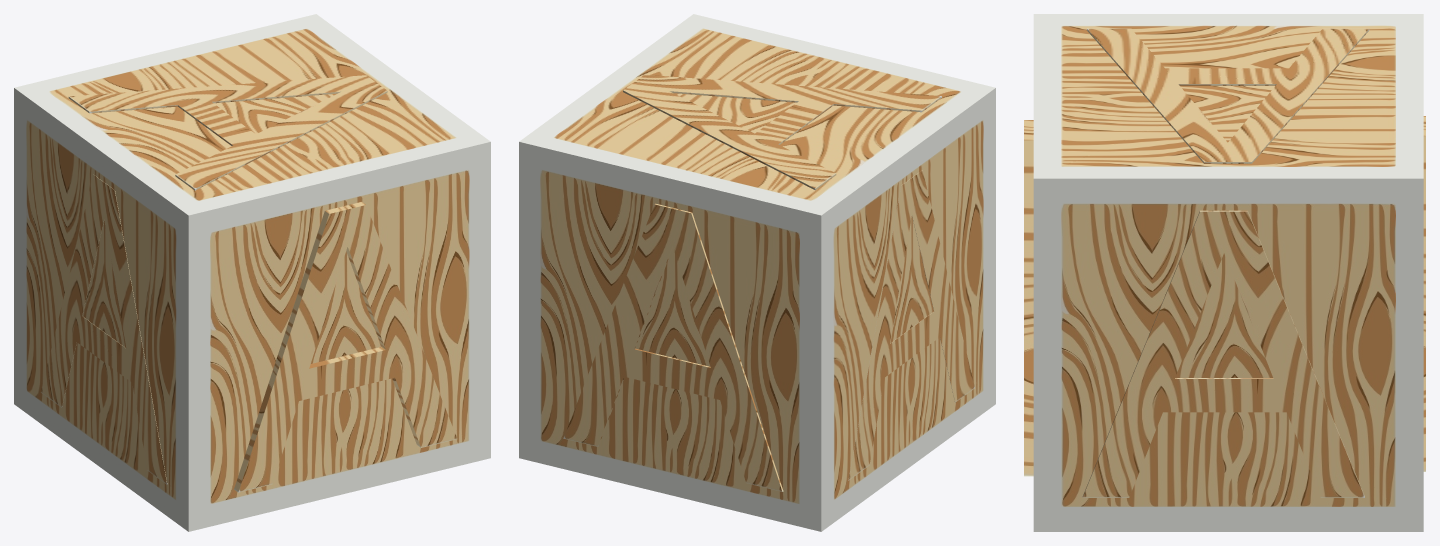
Rendered from Block A.fbx.
The picture shows the model from 3 angles, left to right: view 1: azimuth 30°, elevation 25°; view 2: azimuth 150°, elevation 25°; view 3: azimuth 270°, elevation 25°; orthographic projection. The views are drawn at different scales.
Visible parts, largest first — view 1: Box, FRONT, LEFT, TOP; view 2: Box, BACK, LEFT, TOP; view 3: Box, RIGHT, TOP, FRONT, BACK.
Part boxes in pixels (<box>): Box: <box>14,14,490,531</box>; FRONT: <box>234,202,457,492</box>; LEFT: <box>41,174,167,484</box>; TOP: <box>68,75,387,190</box>; Box: <box>519,14,995,531</box>; BACK: <box>563,203,783,491</box>; LEFT: <box>848,170,974,480</box>; TOP: <box>623,74,941,190</box>; Box: <box>1033,14,1423,531</box>; RIGHT: <box>1082,210,1364,497</box>; TOP: <box>1087,28,1369,163</box>; FRONT: <box>1024,120,1033,476</box>; BACK: <box>1423,116,1425,471</box>.
Bounding box in the file's own units: 1.01 × 1.01 × 1.03.
2 materials, 2 textured.
